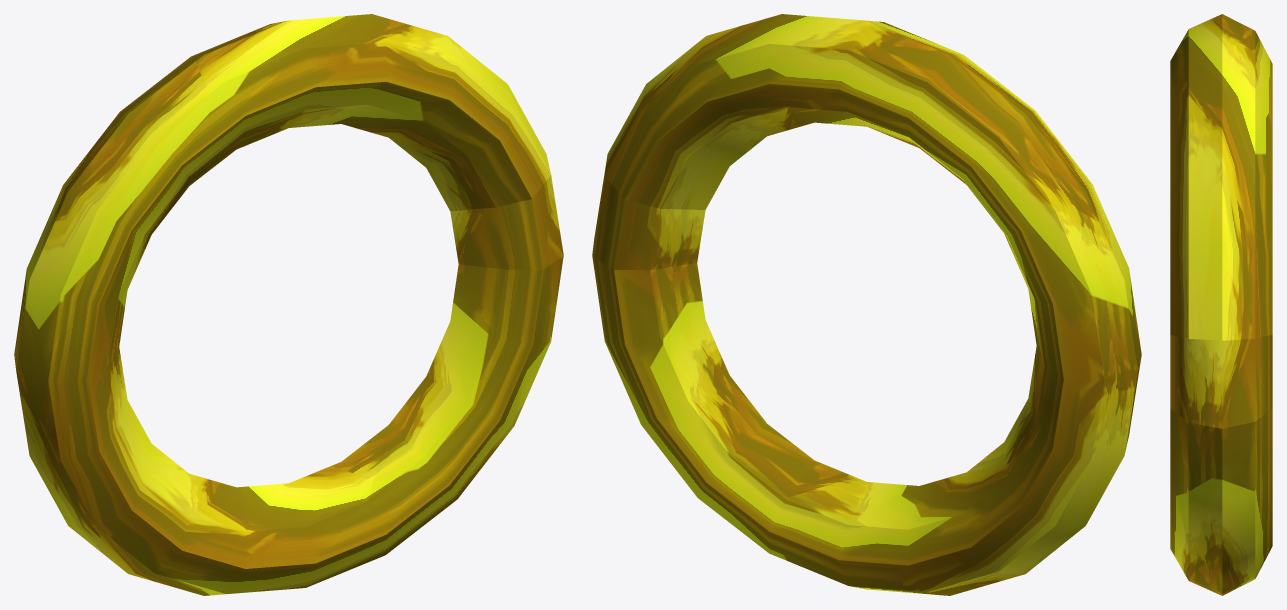
File: Gold Ring.obj
3 renders of one model, left to right at view 1: azimuth 30°, elevation 25°; view 2: azimuth 150°, elevation 25°; view 3: azimuth 270°, elevation 25°, orthographic. The views are drawn at different scales.
Parts seen in each view (by area): view 1: Mesh_0054; view 2: Mesh_0054; view 3: Mesh_0054.
Boxes of the visible parts, x1,y1,x2,y2 form: Mesh_0054: (14,14,563,595); Mesh_0054: (592,14,1141,595); Mesh_0054: (1170,14,1272,595).
Bounding box in the file's own units: 4.87 × 4.87 × 0.8526.
Materials: 1 (1 with a texture image).
